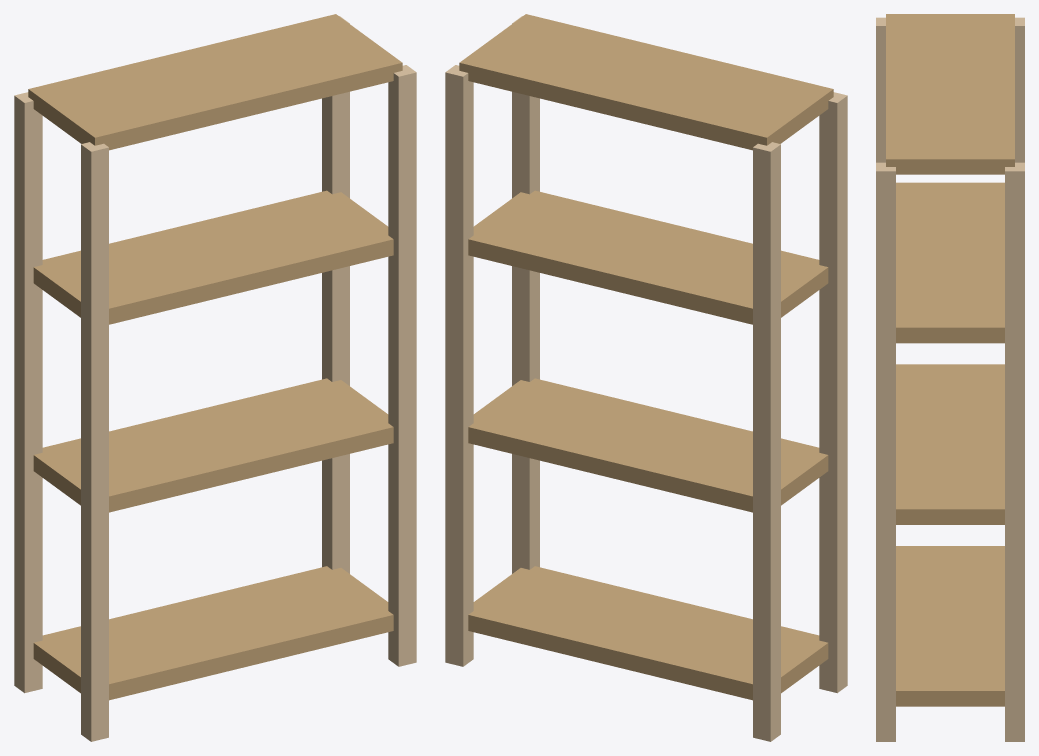
The model's file is shop-shelf.glb.
3 renders of one model, left to right at view 1: azimuth 30°, elevation 25°; view 2: azimuth 150°, elevation 25°; view 3: azimuth 270°, elevation 25°, orthographic. The views are drawn at different scales.
Parts seen in each view (by area): view 1: ShelfBoard.003, ShelfBoard.001, ShelfBoard.002, ShelfBoard, ShelfPost.002, ShelfPost, ShelfPost.001, ShelfPost.003; view 2: ShelfBoard.003, ShelfBoard.001, ShelfBoard.002, ShelfBoard, ShelfPost.003, ShelfPost.001, ShelfPost, ShelfPost.002; view 3: ShelfBoard.003, ShelfBoard.002, ShelfBoard, ShelfBoard.001, ShelfPost.002, ShelfPost.003, ShelfPost, ShelfPost.001.
Part boxes in pixels (bbox=[...]): ShelfBoard.003: bbox=[28, 14, 402, 150]; ShelfBoard.001: bbox=[33, 378, 393, 512]; ShelfBoard.002: bbox=[33, 190, 393, 324]; ShelfBoard: bbox=[33, 566, 393, 700]; ShelfPost.002: bbox=[388, 65, 416, 666]; ShelfPost: bbox=[81, 142, 108, 741]; ShelfPost.001: bbox=[14, 92, 42, 693]; ShelfPost.003: bbox=[322, 16, 349, 573]; ShelfBoard.003: bbox=[459, 14, 833, 150]; ShelfBoard.001: bbox=[468, 378, 828, 512]; ShelfBoard.002: bbox=[468, 190, 828, 324]; ShelfBoard: bbox=[468, 566, 828, 700]; ShelfPost.003: bbox=[445, 65, 473, 666]; ShelfPost.001: bbox=[753, 142, 780, 741]; ShelfPost: bbox=[819, 92, 847, 693]; ShelfPost.002: bbox=[512, 16, 539, 573]; ShelfBoard.003: bbox=[886, 14, 1014, 174]; ShelfBoard.002: bbox=[896, 182, 1004, 343]; ShelfBoard: bbox=[896, 546, 1004, 706]; ShelfBoard.001: bbox=[896, 364, 1004, 524]; ShelfPost.002: bbox=[876, 162, 895, 741]; ShelfPost.003: bbox=[1005, 162, 1024, 741]; ShelfPost: bbox=[876, 17, 885, 162]; ShelfPost.001: bbox=[1015, 17, 1024, 162].
Size of the model in its own units: 1.27 by 2.23 by 0.52.
